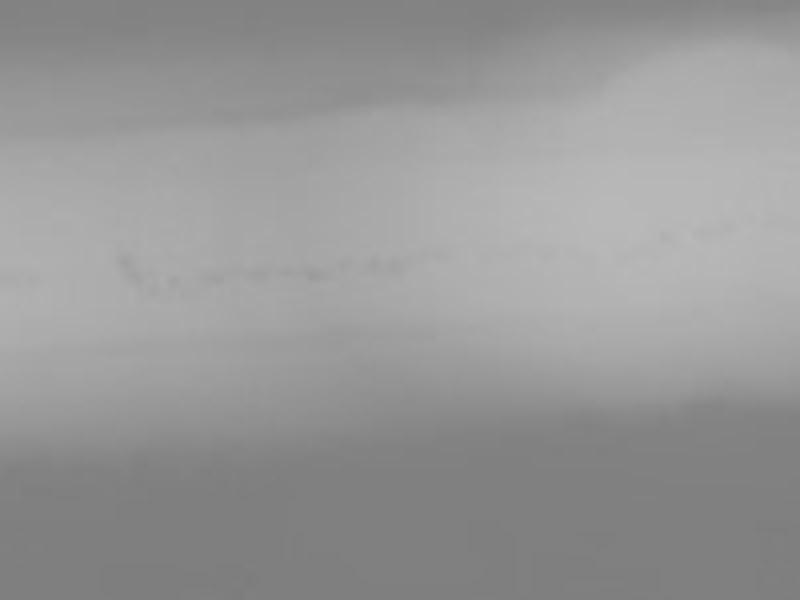defect: (111, 236, 154, 293), (361, 254, 425, 276), (190, 263, 232, 291), (279, 261, 330, 282), (241, 260, 274, 285), (1, 260, 30, 288), (653, 224, 679, 249), (164, 271, 179, 296), (340, 255, 358, 275)
